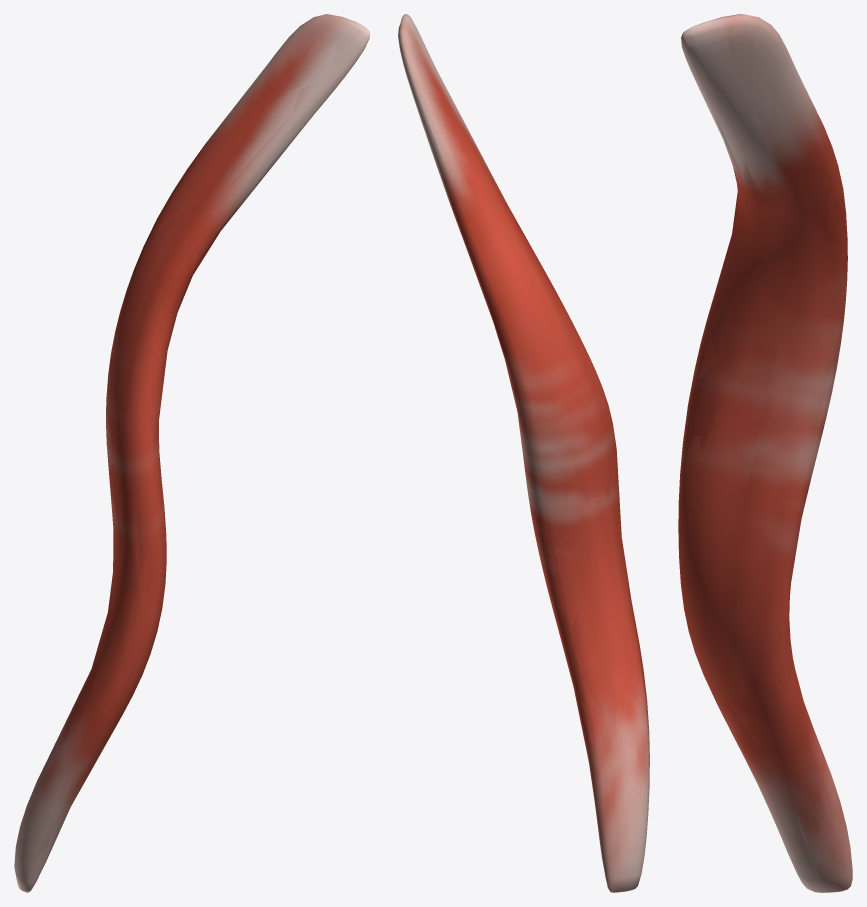
Rendered from R Sartorius.fbx.
3 views of the same model, side by side, from view 1: azimuth 30°, elevation 25°; view 2: azimuth 150°, elevation 25°; view 3: azimuth 270°, elevation 25° (orthographic). The views are drawn at different scales.
Visible parts, largest first — view 1: R Sartorius, R Sartorius low; view 2: R Sartorius, R Sartorius low; view 3: R Sartorius, R Sartorius low.
Part boxes in pixels (x1,y1,x2,y2): R Sartorius: [14, 14, 369, 892]; R Sartorius low: [19, 14, 365, 889]; R Sartorius: [398, 14, 649, 892]; R Sartorius low: [398, 22, 647, 892]; R Sartorius: [678, 14, 852, 892]; R Sartorius low: [682, 14, 846, 860].
Bounding box in the file's own units: 8.92 × 23.61 × 3.57.
